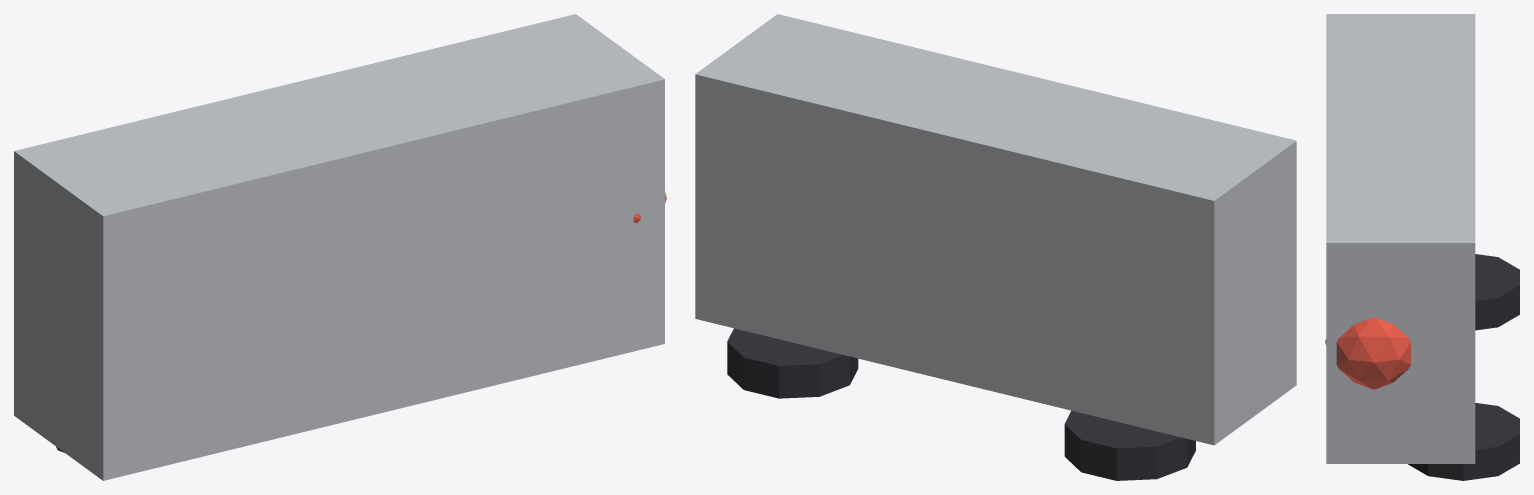
The model's file is zipline_anchor_pair.glb.
The picture shows the model from 3 angles, left to right: view 1: azimuth 30°, elevation 25°; view 2: azimuth 150°, elevation 25°; view 3: azimuth 270°, elevation 25°; orthographic projection. The views are drawn at different scales.
Parts seen in each view (by area): view 1: vehicle_body; view 2: vehicle_body, wheel_a, wheel_b; view 3: vehicle_body, engine_glow, wheel_b, wheel_a.
Part boxes in pixels (x1,y1,x2,y2): vehicle_body: [14, 14, 664, 480]; vehicle_body: [695, 14, 1296, 445]; wheel_a: [1064, 410, 1195, 480]; wheel_b: [727, 328, 858, 398]; vehicle_body: [1326, 14, 1475, 463]; engine_glow: [1325, 317, 1410, 389]; wheel_b: [1408, 403, 1519, 480]; wheel_a: [1475, 254, 1519, 330].
Bounding box in the file's own units: 2.08 × 1.03 × 0.7192.
